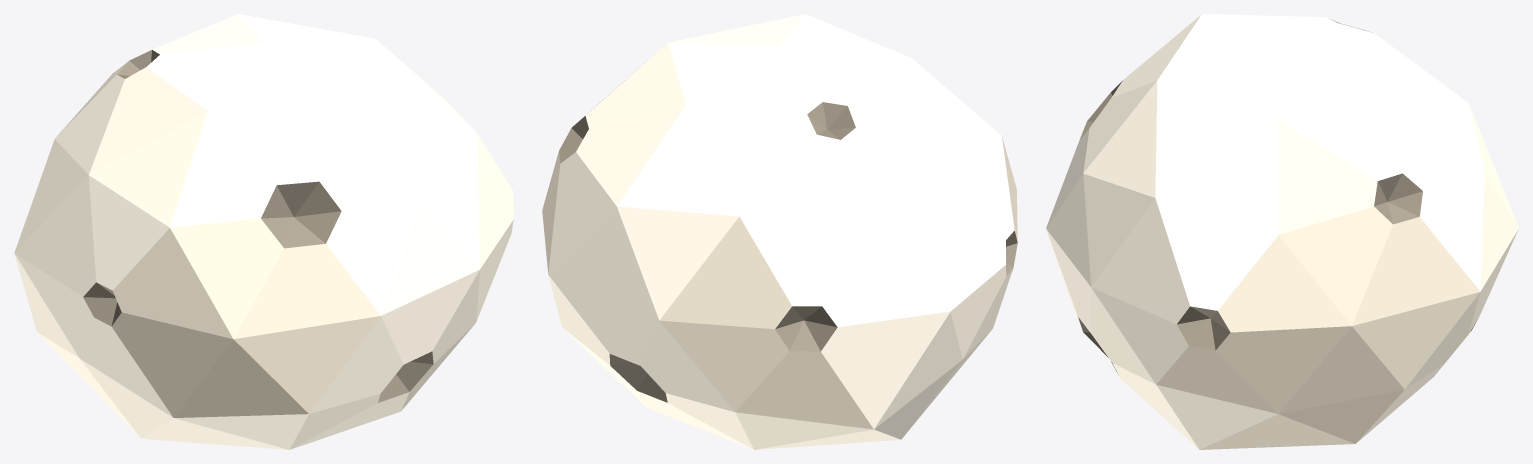
File: pumice.glb
3 renders of one model, left to right at view 1: azimuth 30°, elevation 25°; view 2: azimuth 150°, elevation 25°; view 3: azimuth 270°, elevation 25°, orthographic.
Parts seen in each view (by area): view 1: pumice; view 2: pumice; view 3: pumice.
Part boxes in pixels (x1,y1,x2,y2): pumice: (14, 14, 513, 449); pumice: (542, 14, 1017, 449); pumice: (1046, 14, 1518, 449).
Bounding box in the file's own units: 1.01 × 0.86 × 0.98.
